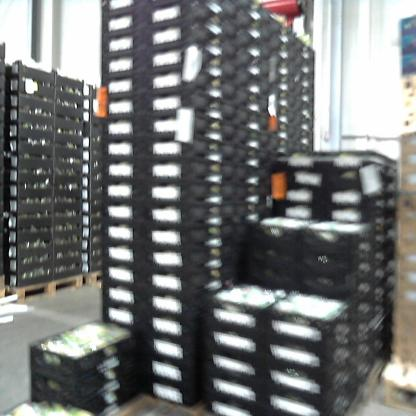pallet: (2, 266, 87, 308), (376, 347, 416, 412), (82, 267, 110, 292)
